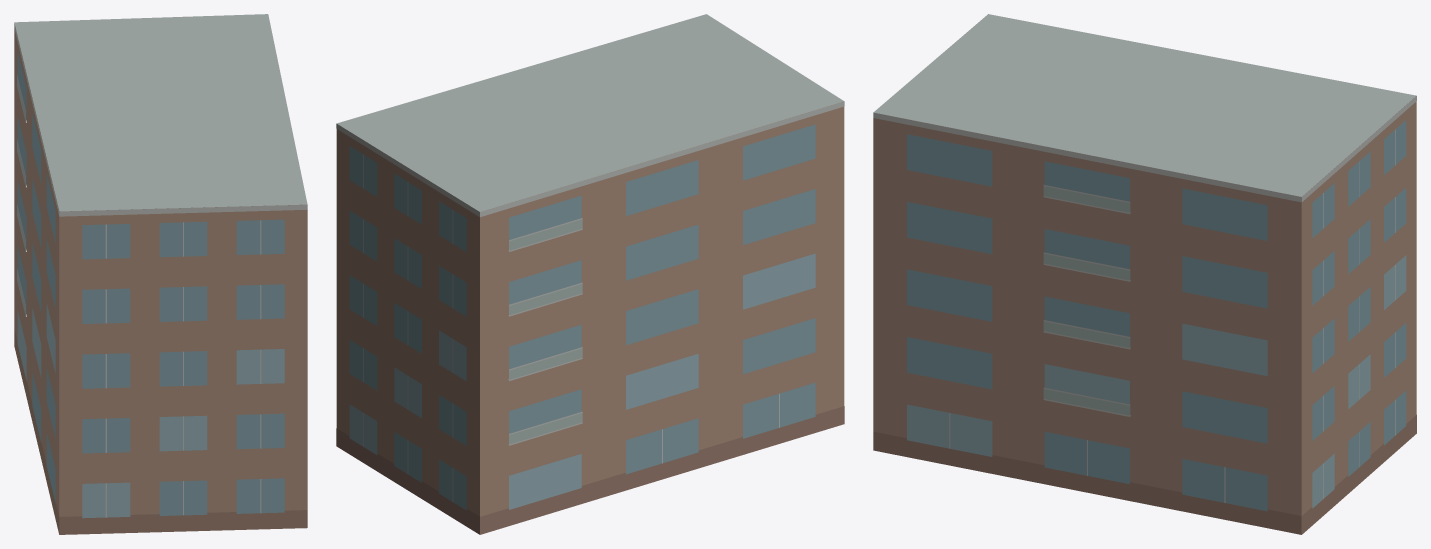
Rendered from survey-upis-32988465.glb.
The picture shows the model from 3 angles, left to right: view 1: azimuth 30°, elevation 25°; view 2: azimuth 150°, elevation 25°; view 3: azimuth 270°, elevation 25°; orthographic projection. The views are drawn at different scales.
Parts seen in each view (by area): view 1: survey-upis-32988465.tmp; view 2: survey-upis-32988465.tmp; view 3: survey-upis-32988465.tmp.
Part boxes in pixels (bbox=[...]): survey-upis-32988465.tmp: bbox=[14, 14, 307, 534]; survey-upis-32988465.tmp: bbox=[336, 14, 844, 534]; survey-upis-32988465.tmp: bbox=[873, 14, 1416, 534].
Bounding box in the file's own units: 17.6 × 15.15 × 22.09.
